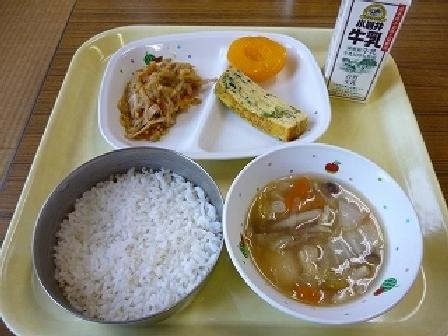Milk: (321, 0, 418, 99)
Rice: (30, 149, 234, 327)
Soups: (230, 155, 407, 312)
egg product: (215, 71, 304, 143)
peach: (221, 30, 296, 84)
salad with sauce: (112, 51, 214, 140)
